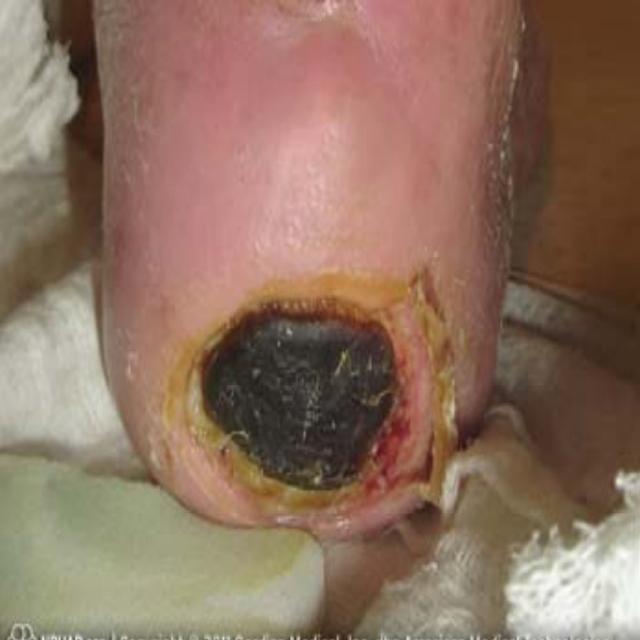Unstageable: (162, 276, 455, 533)
